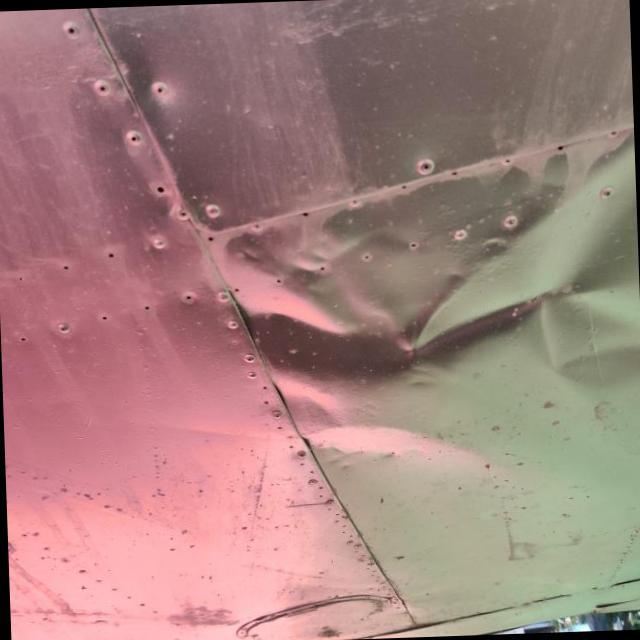Dent: (193, 123, 640, 498)
